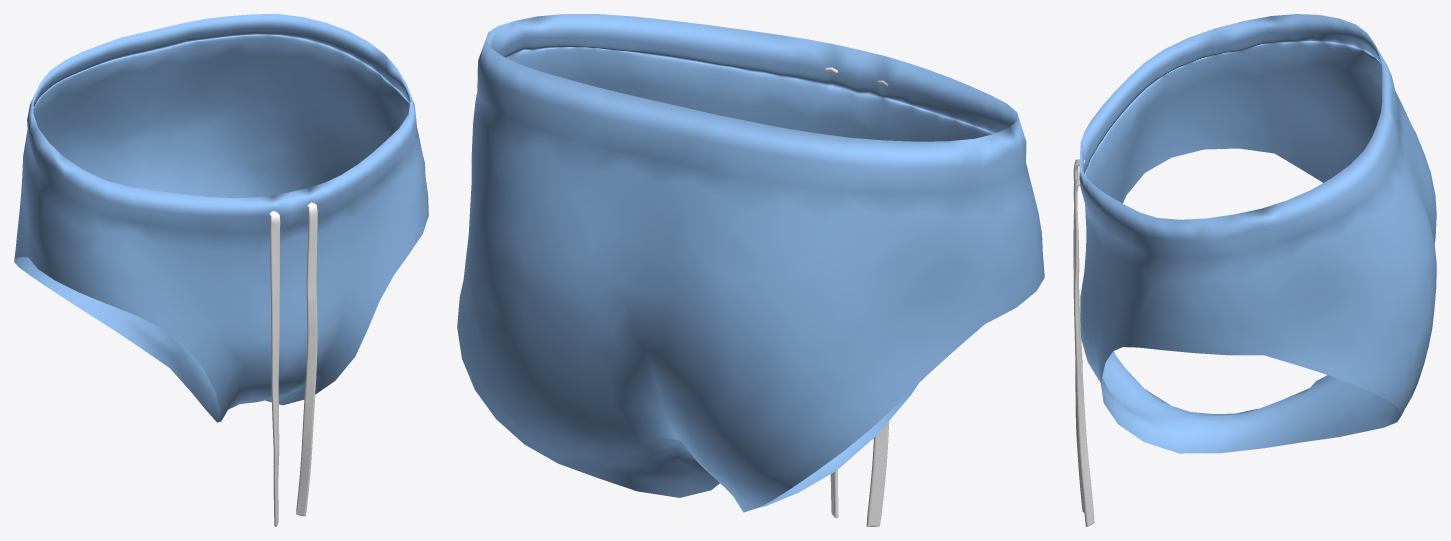
File: SwimBrief_thin_20230315.gltf
3 views of the same model, side by side, from view 1: azimuth 30°, elevation 25°; view 2: azimuth 150°, elevation 25°; view 3: azimuth 270°, elevation 25° (orthographic). The views are drawn at different scales.
Parts seen in each view (by area): view 1: Cloth, Trim; view 2: Cloth, Trim; view 3: Cloth, Trim.
Part boxes in pixels (x1,y1,x2,y2): Cloth: [14, 14, 428, 422]; Trim: [269, 202, 317, 526]; Cloth: [457, 14, 1044, 512]; Trim: [825, 67, 889, 526]; Cloth: [1079, 14, 1436, 453]; Trim: [1073, 159, 1094, 526].
Size of the model in its own units: 34.49 by 35.06 by 26.41.
